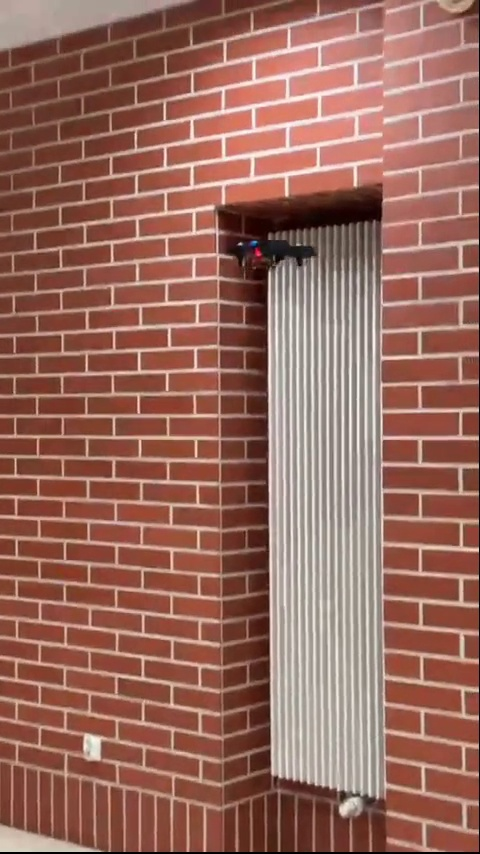drone: (223, 235, 318, 271)
